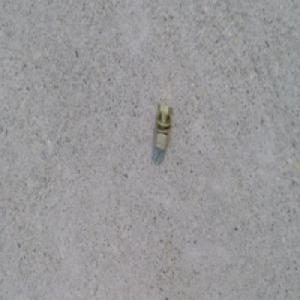BoltNutSet: (151, 104, 174, 151)
